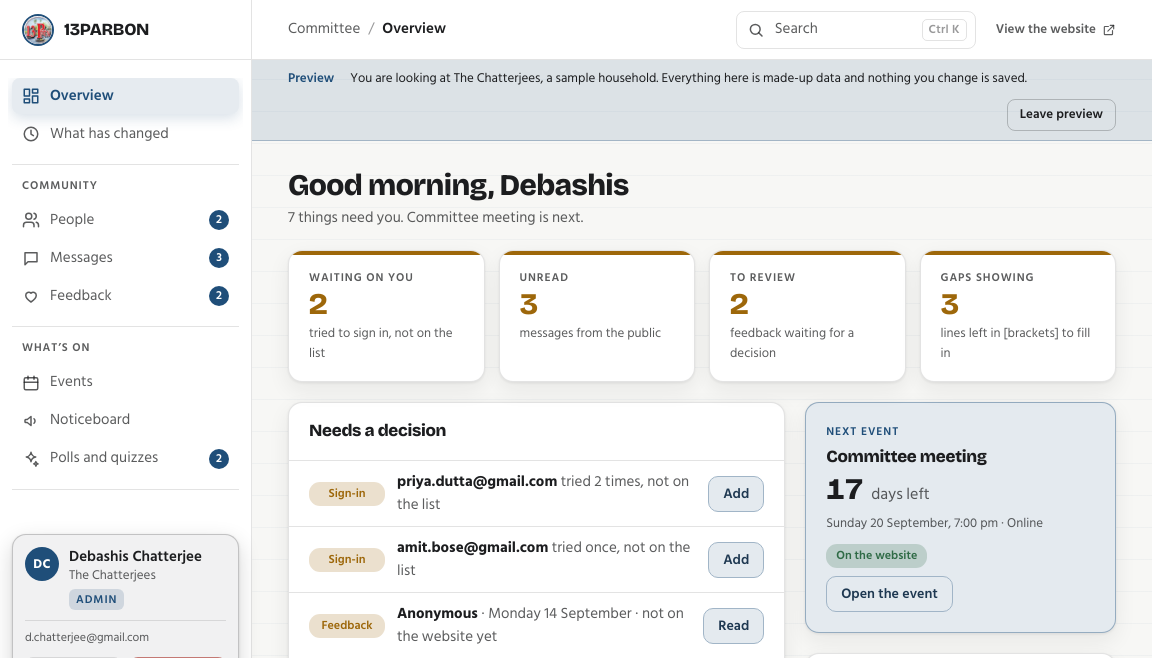
the committee’s search › opens an album
Click the button "Search Ctrl K" at (856,30), box [736, 10, 976, 48]
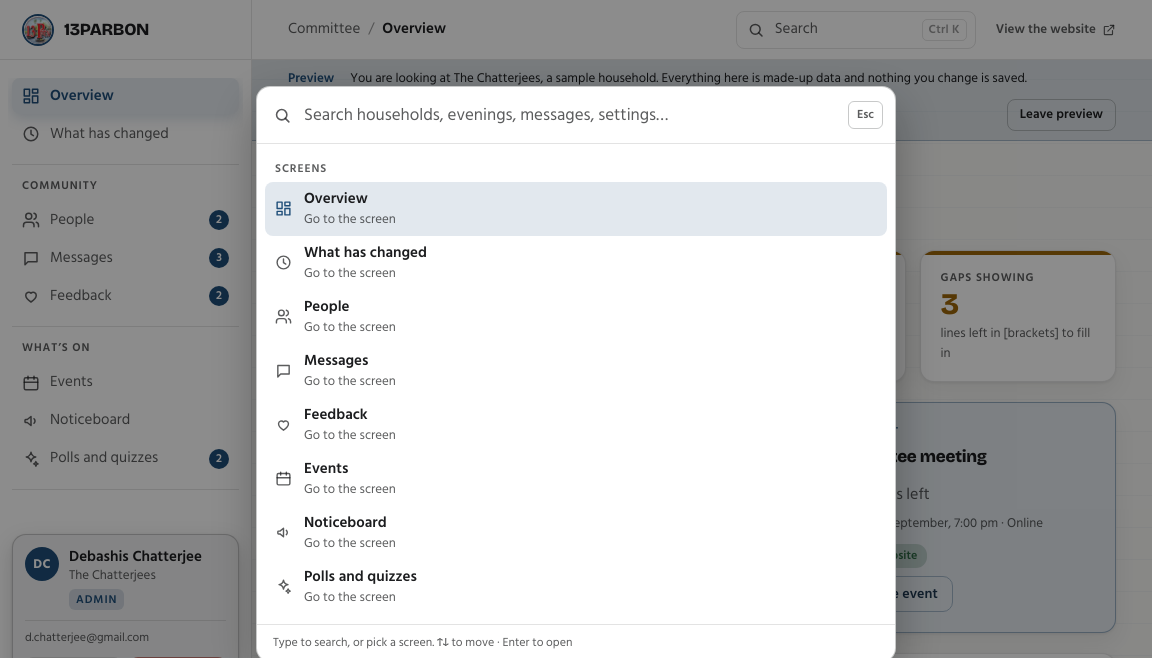
Type "Boishakhi 2026" into the dropdown at (570,115), box [302, 87, 838, 143]
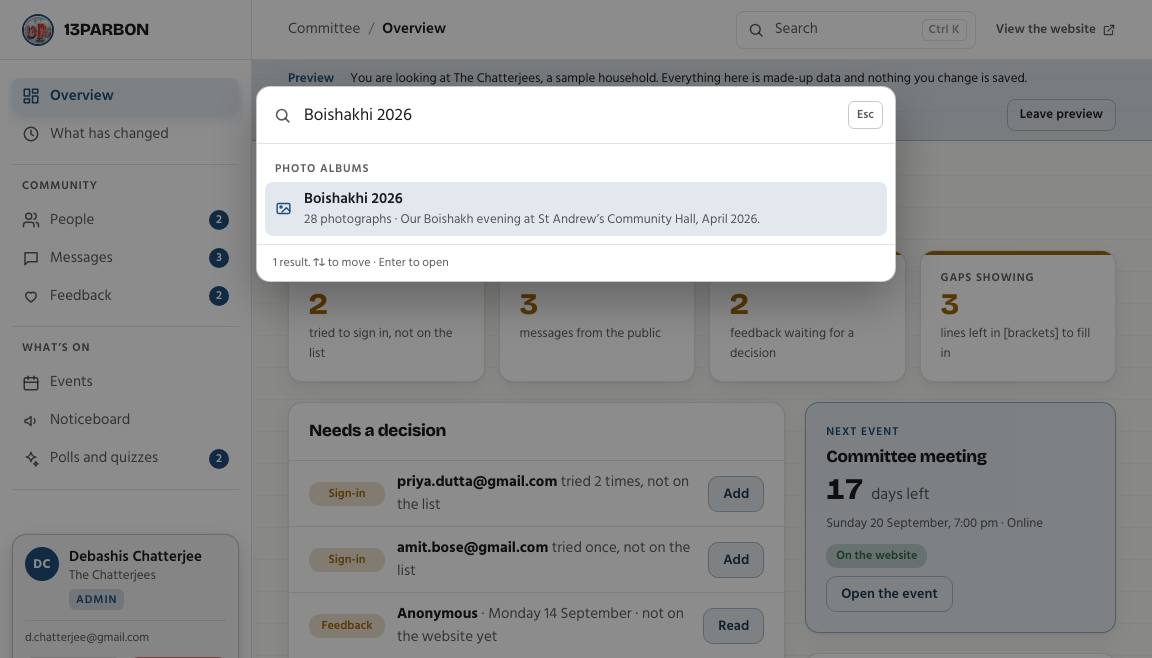
Click the option at (576,209), box [265, 182, 887, 236]
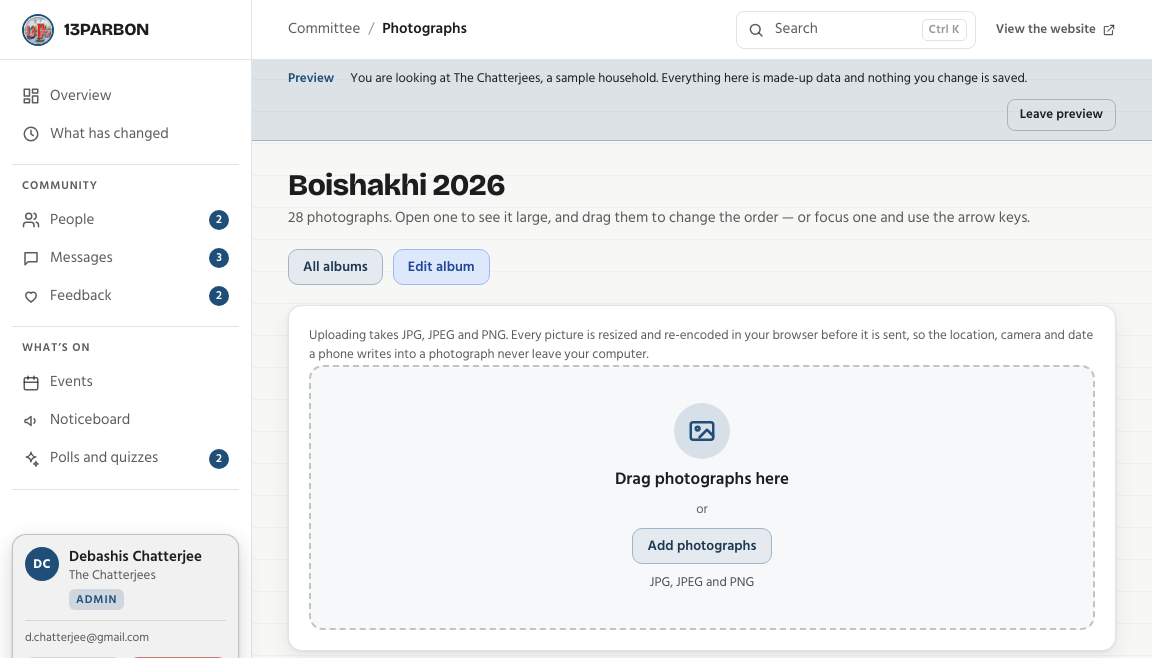
Result: the heading "Boishakhi 2026" is shown at [288, 166, 505, 202]
